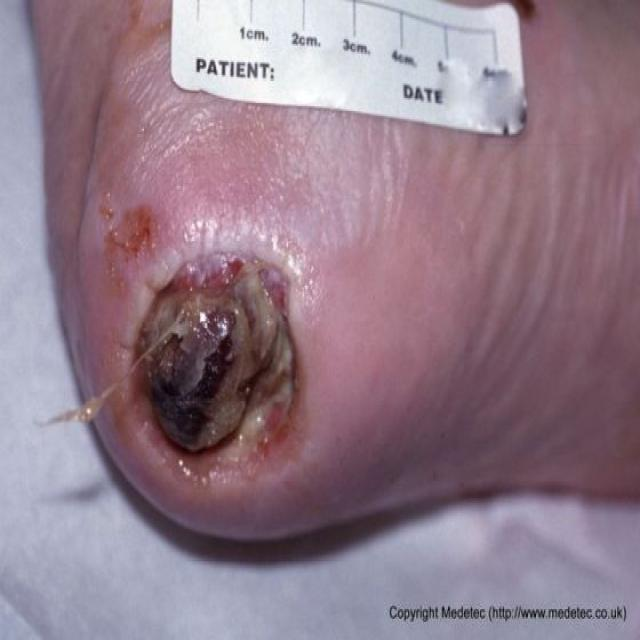Unstageable: (132, 255, 299, 485)
